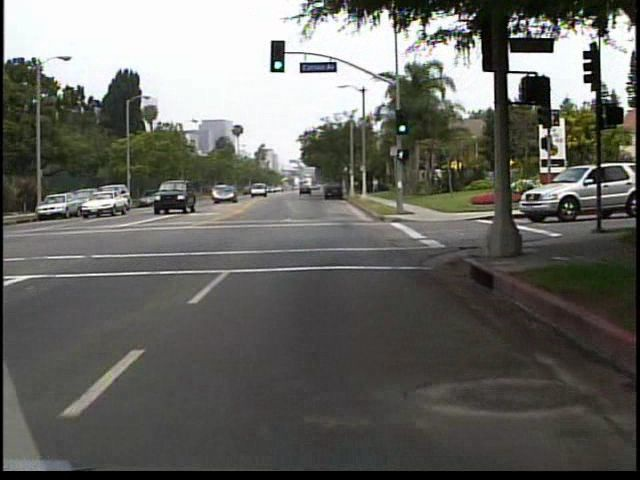person: (364, 175, 373, 198), (372, 175, 381, 195)
